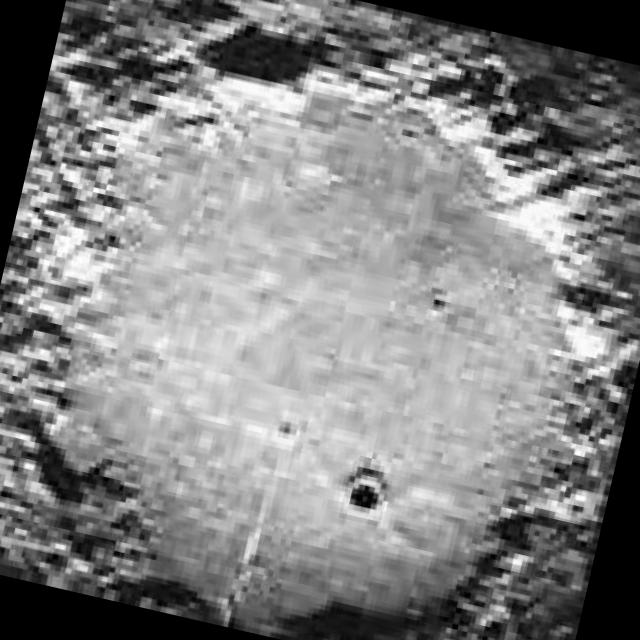crater: (9, 36, 640, 640), (338, 474, 389, 526)
